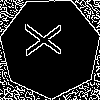X: (25, 22, 71, 57)
